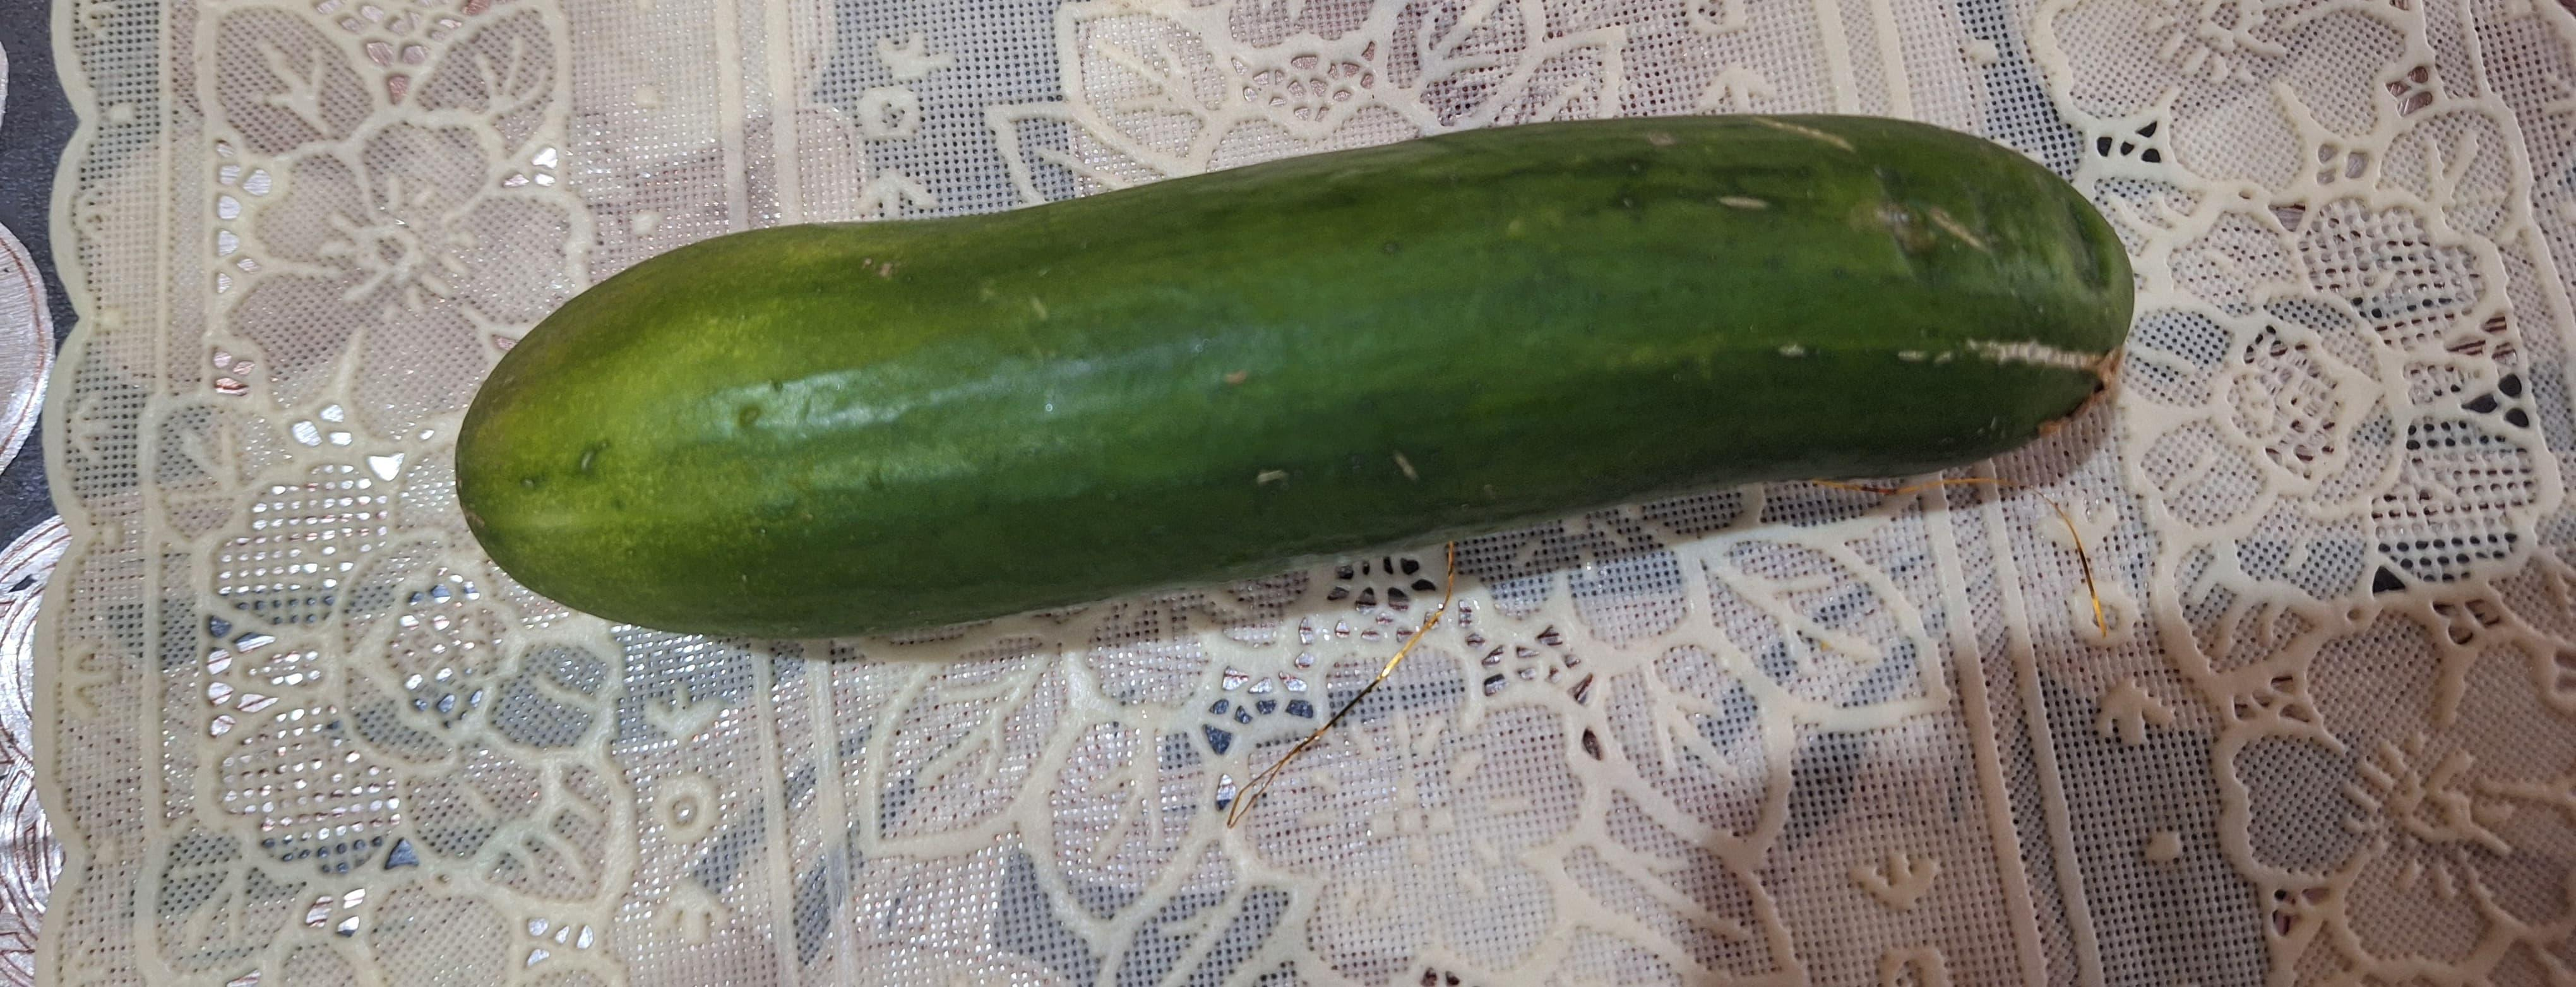non-mango: (453, 108, 2137, 647)
